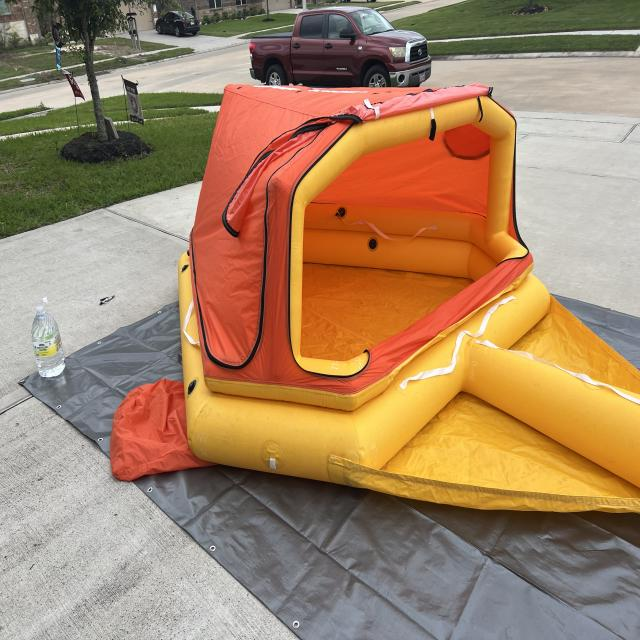Multi-person_life_raft: (110, 84, 640, 512)
